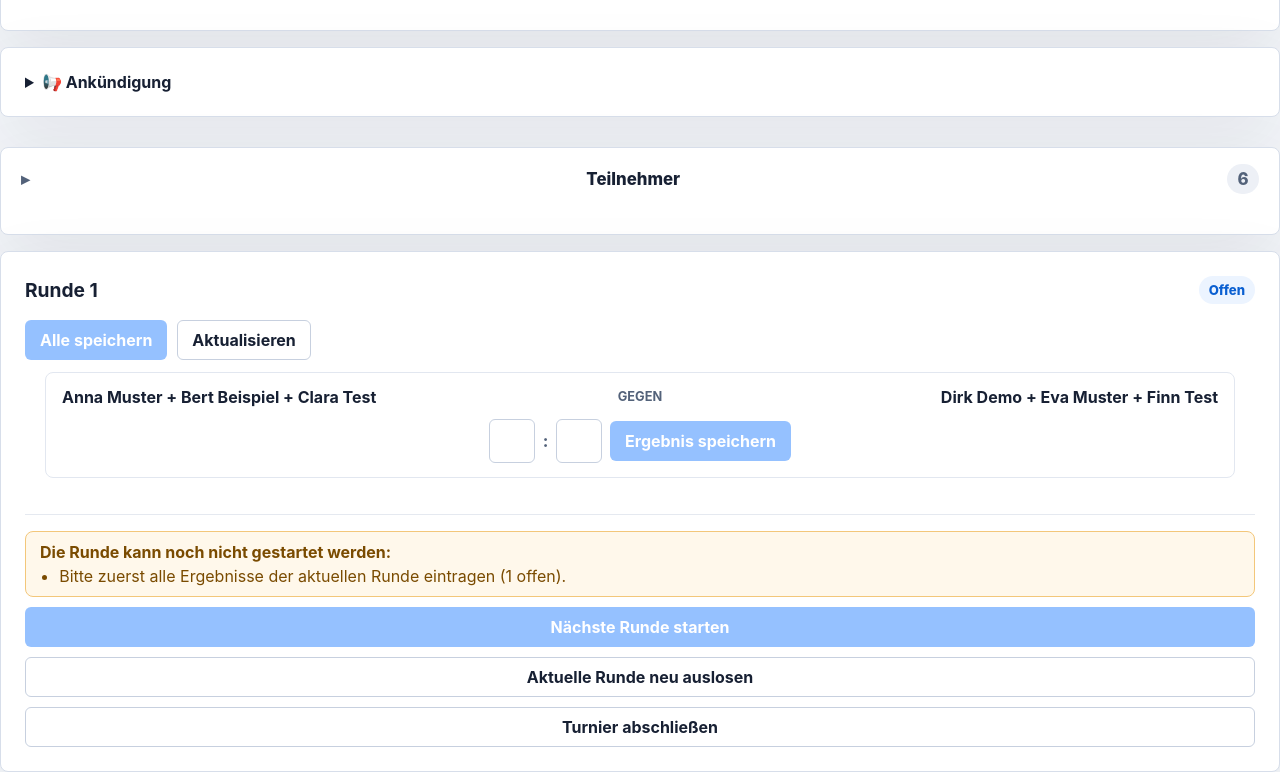
Test: TournamentPlayManagement › bietet „Turnier abschließen“ direkt nach „Nächste Runde starten“ an, auch bei offenen Ergebnissen
This screenshot has width=1280, height=772.
(page scrolled)
Check: the button "Nächste Runde starten" is disabled, box top-left (25, 607), bottom-right (1255, 647)
Click the button "Turnier abschließen": (640, 727) top-left (25, 707), bottom-right (1255, 747)
(page scrolled)
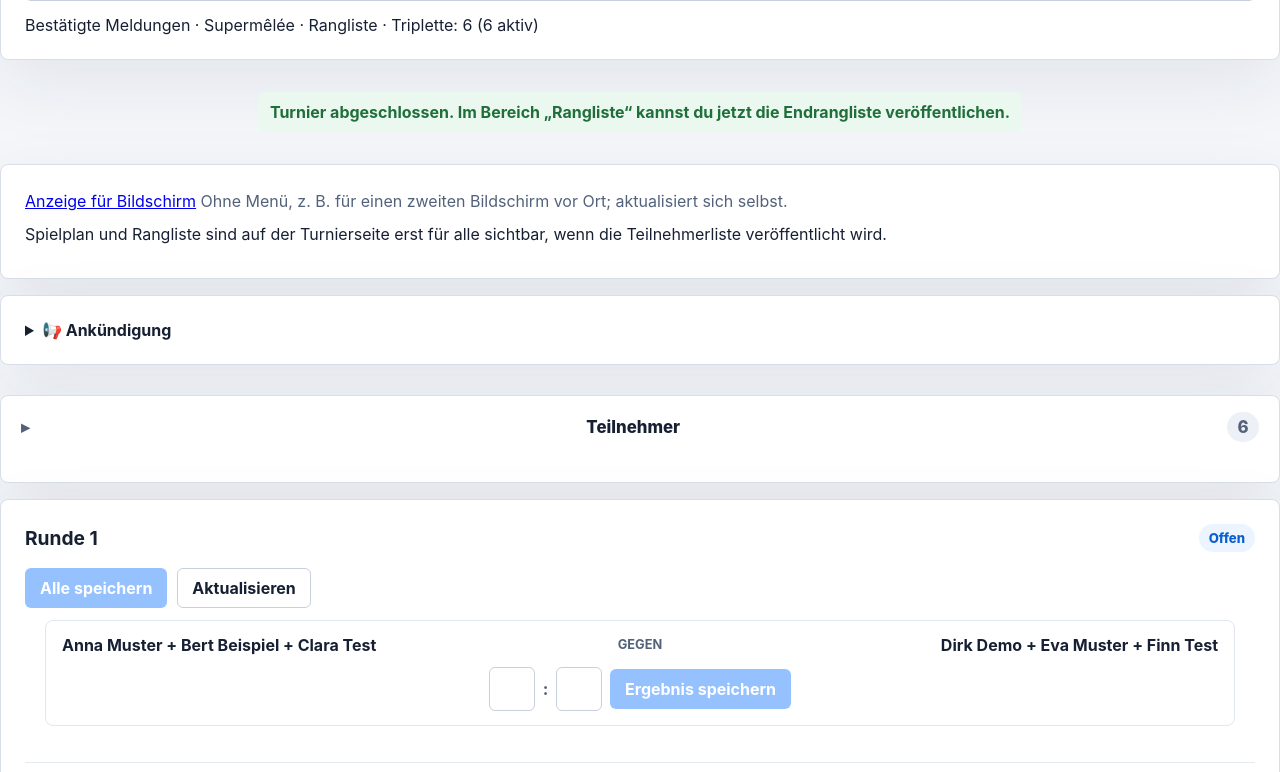
Check: the text "Turnier abgeschlossen." is shown, box top-left (270, 102), bottom-right (1010, 122)
